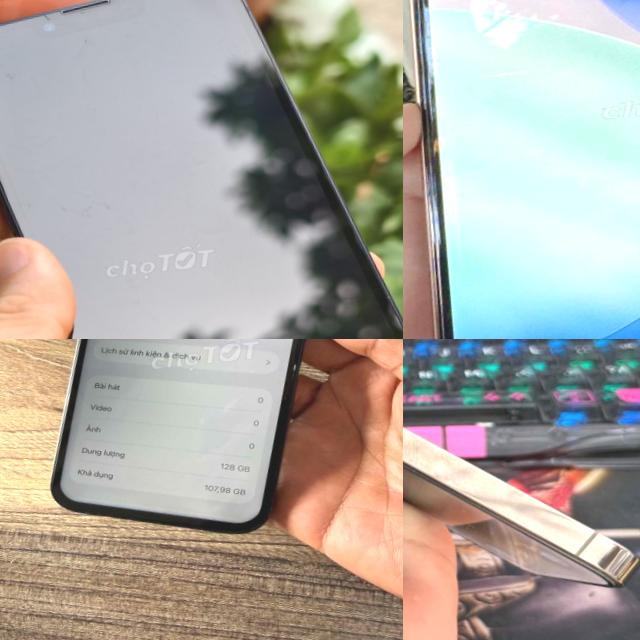gen_12_13: (0, 0, 403, 339), (8, 339, 368, 562)
gen_14: (403, 339, 640, 640)
gen_16: (410, 0, 640, 339)
